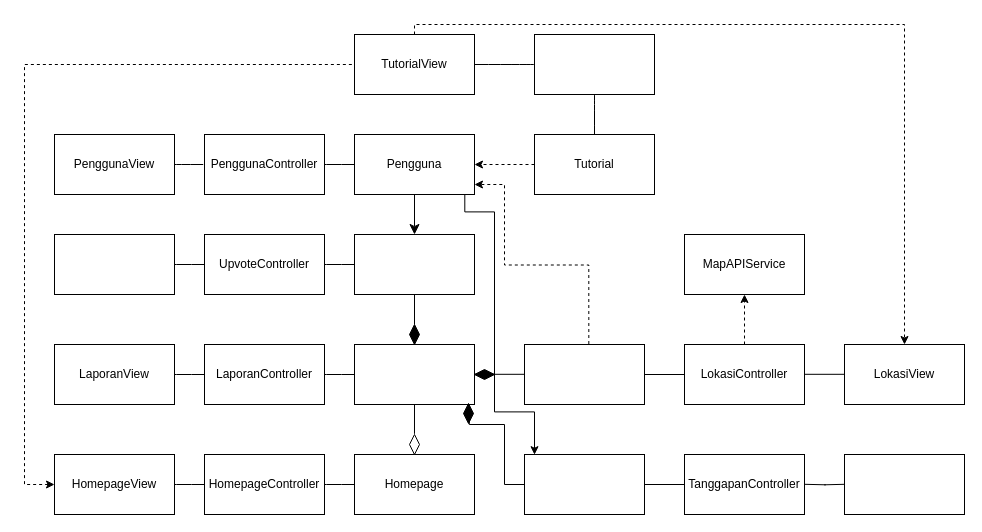
The diagram is 982 pixels wide and 532 high, and some of its shapes have lost their labels. Each missing label, with the centre of its shape:
Laporan: pixel 414 374
Lokasi: pixel 584 374
Tanggapan: pixel 584 484
TanggapanView: pixel 904 484
TutorialController: pixel 594 64
Upvote: pixel 414 264
UpvoteView: pixel 114 264
